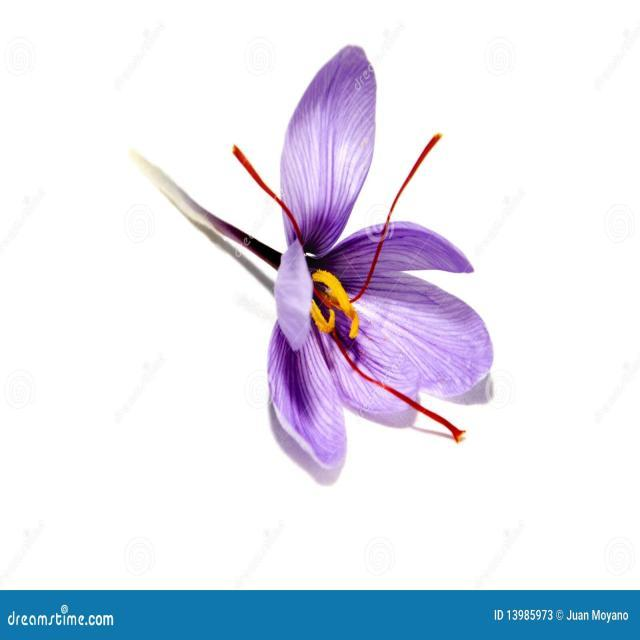Flower: (260, 41, 496, 476)
stigma: (320, 116, 445, 314), (324, 319, 459, 441), (229, 138, 314, 257)
